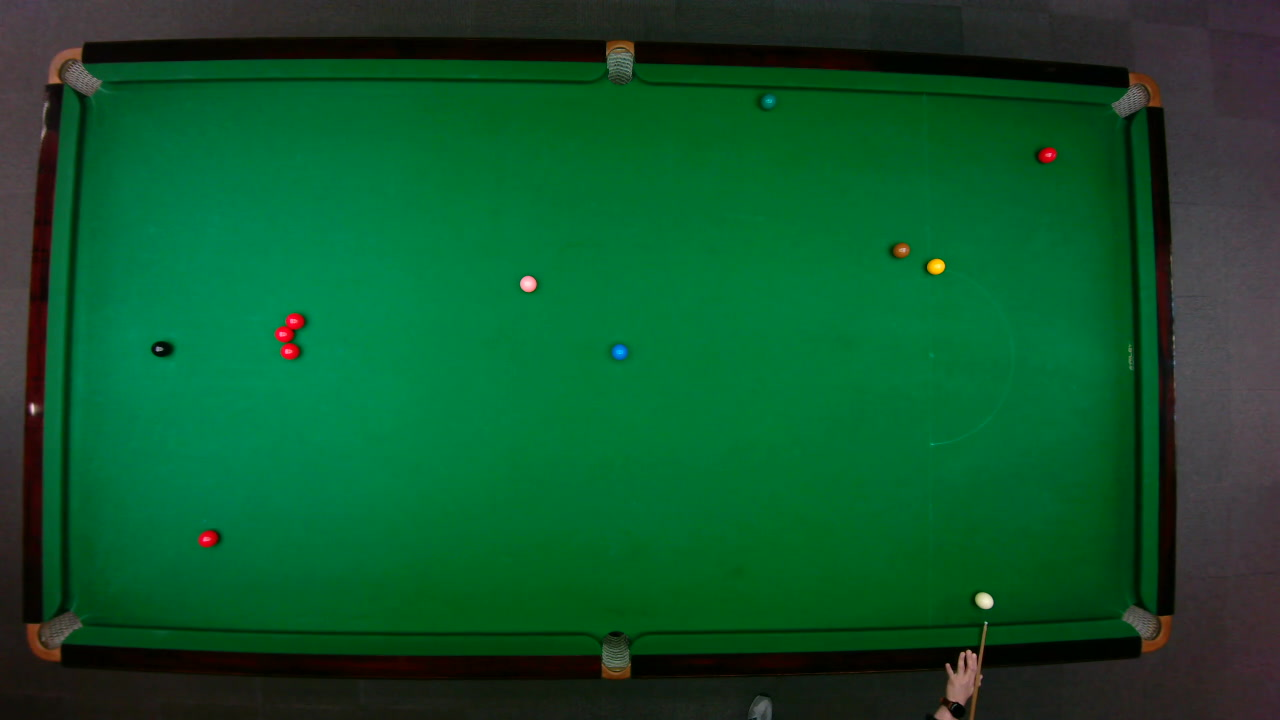bag: (25, 609, 83, 661), (45, 46, 102, 96), (1119, 603, 1172, 652), (1108, 71, 1161, 118), (600, 629, 629, 680), (605, 38, 633, 85)
black: (149, 339, 171, 357)
blue: (610, 343, 628, 360)
brown: (890, 241, 910, 258)
cue: (964, 620, 989, 720)
green: (758, 92, 776, 110)
pink: (518, 274, 537, 292)
red: (196, 528, 219, 547), (284, 311, 305, 330), (279, 342, 300, 360), (1036, 145, 1057, 163), (273, 324, 294, 342)
white: (972, 590, 994, 609)
yellow: (925, 257, 946, 275)
zone: (927, 266, 1013, 445)
